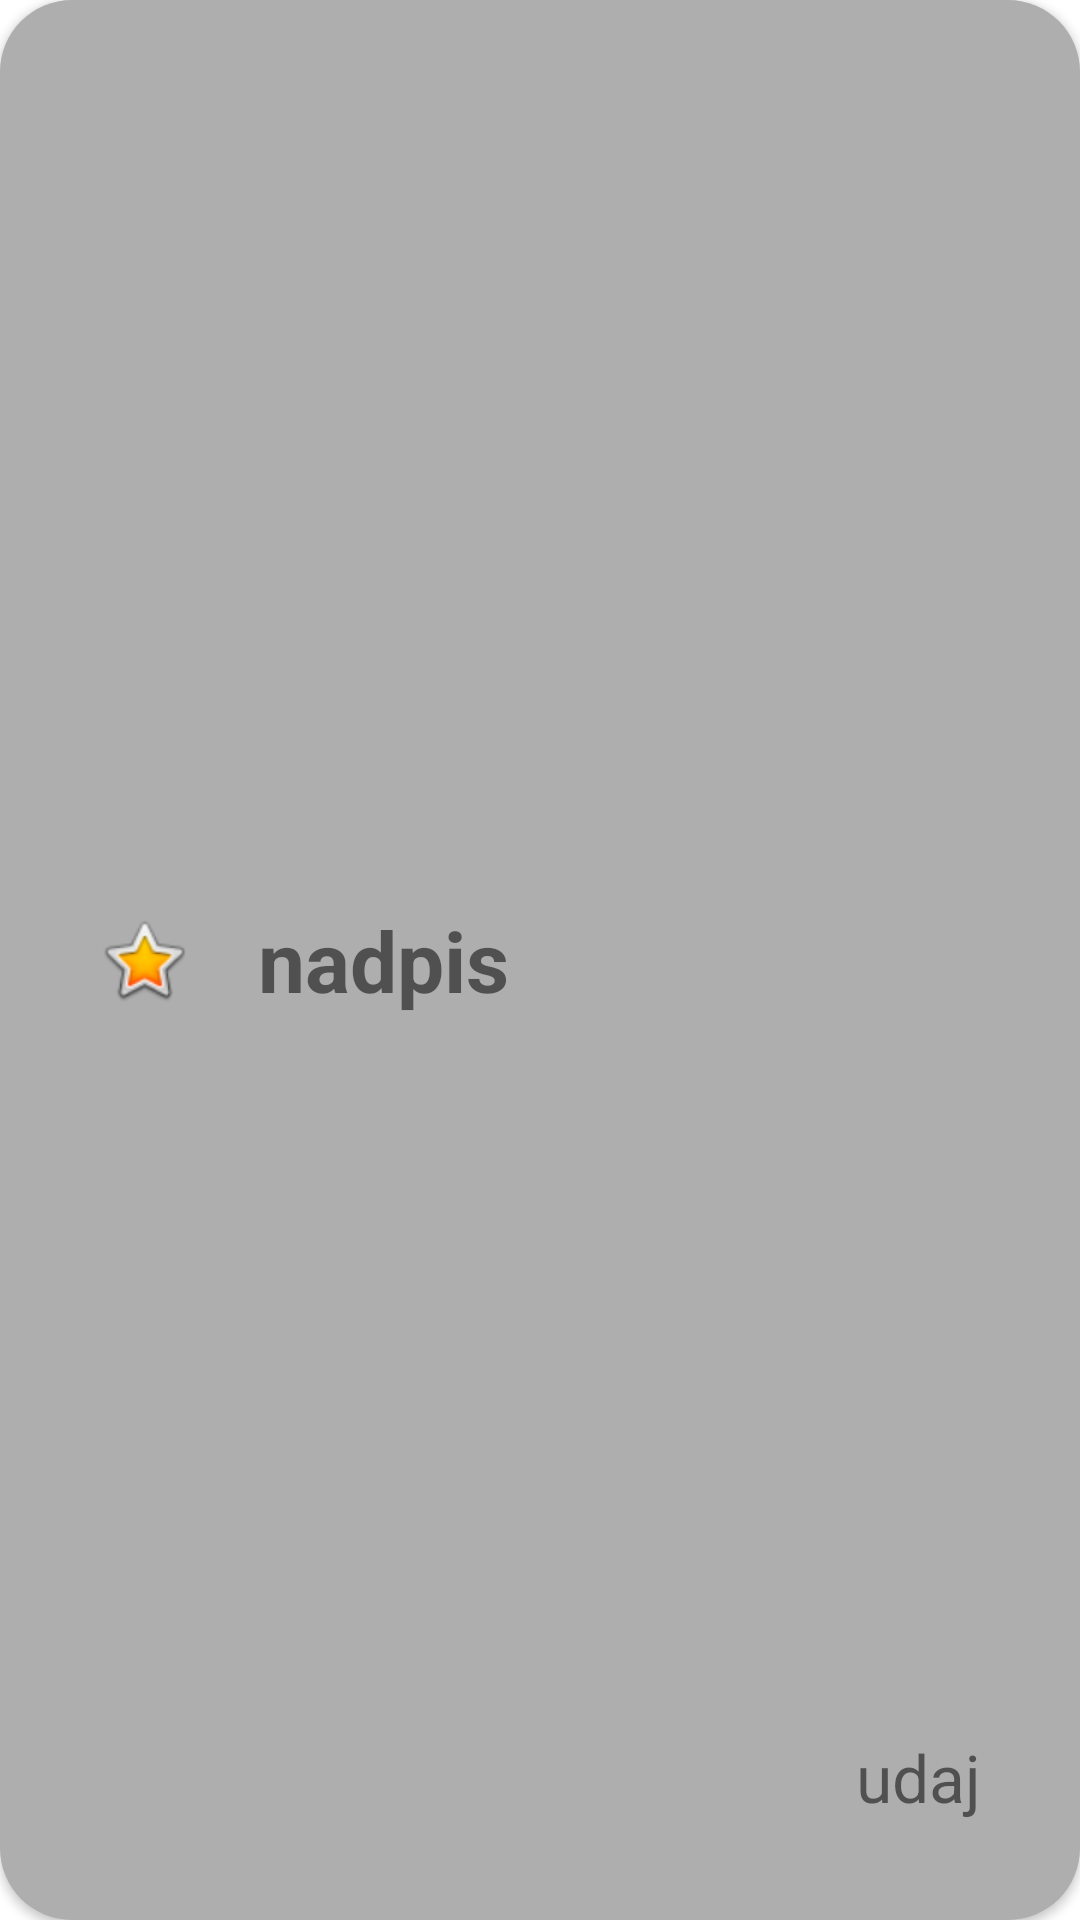

Named icons in this screenshot (1080*1920) and their centers, (x=x, y=y):
star on: (x=145, y=960)
